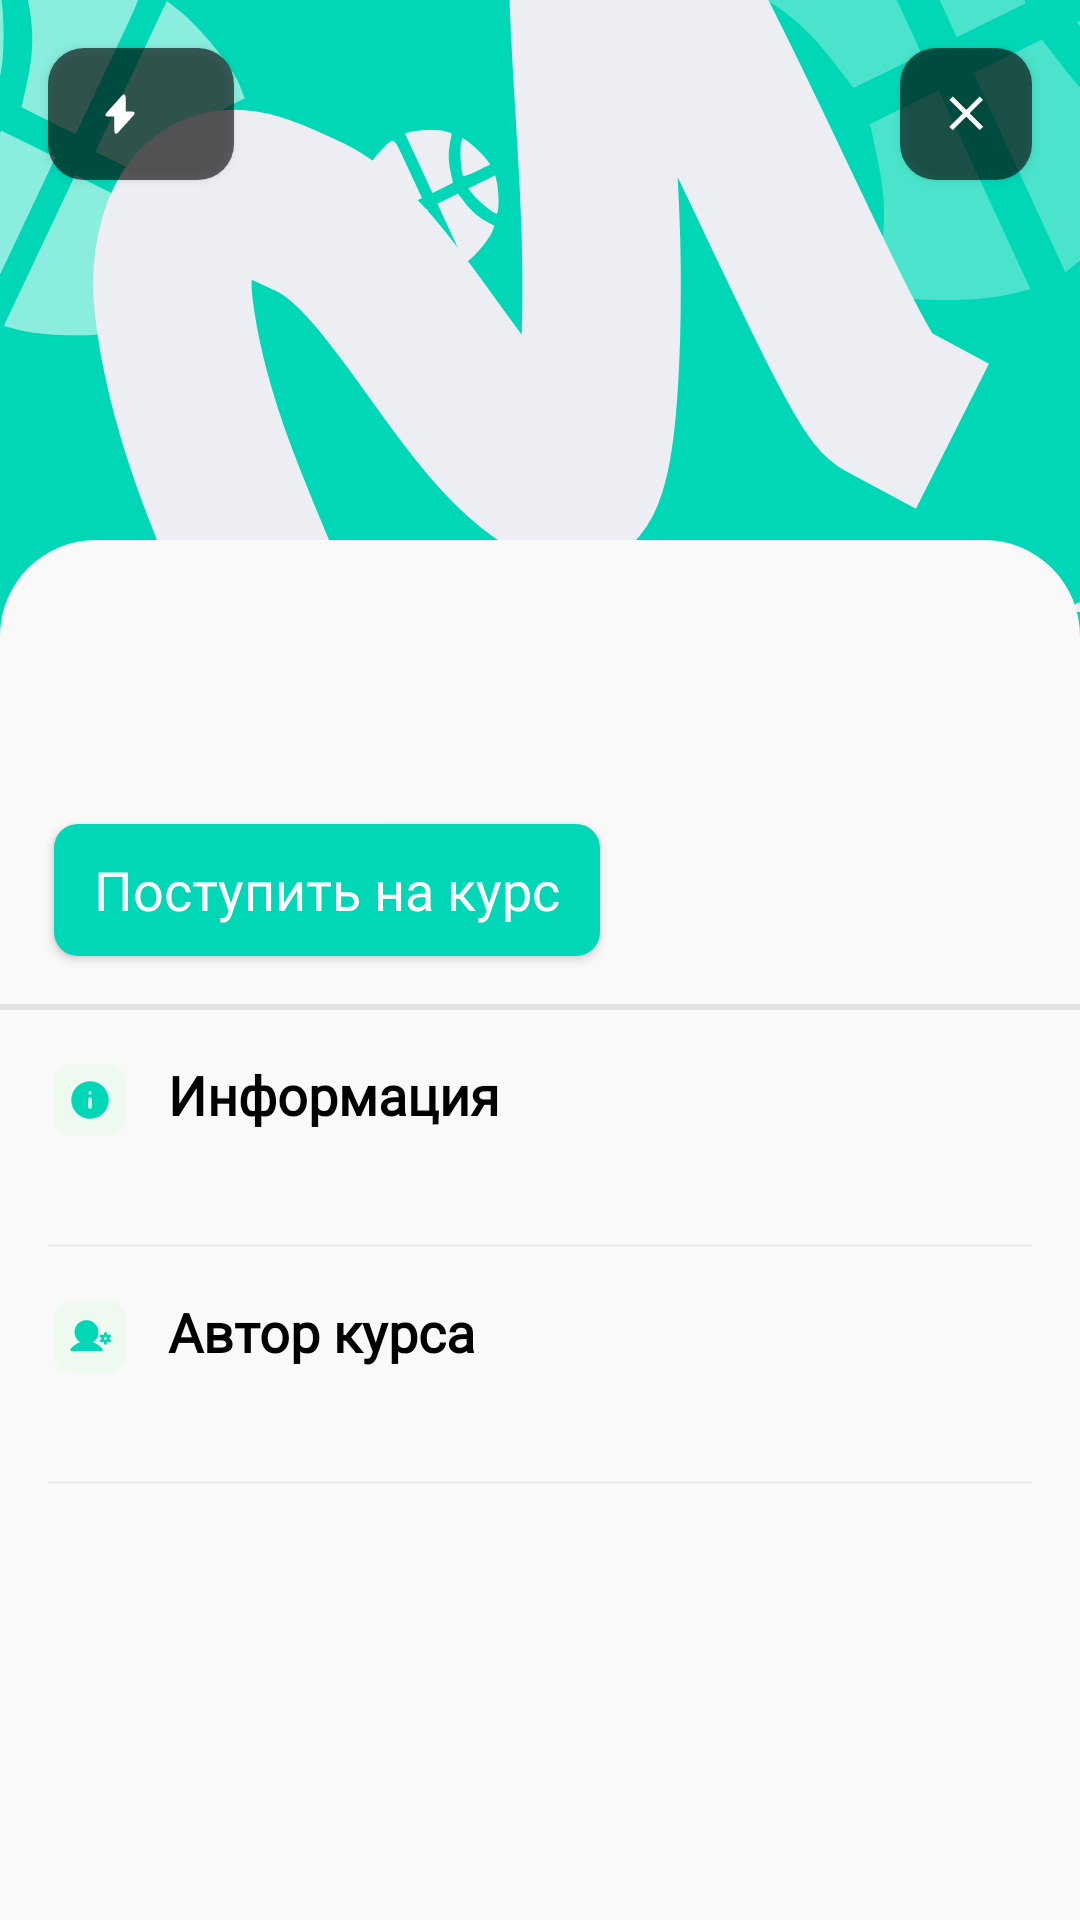

Named icons in this screenshot (1080px x 1920px) and their centers, (x,y):
author: (90,1335)
close: (966,114)
info: (90,1100)
lightning: (115,114)
